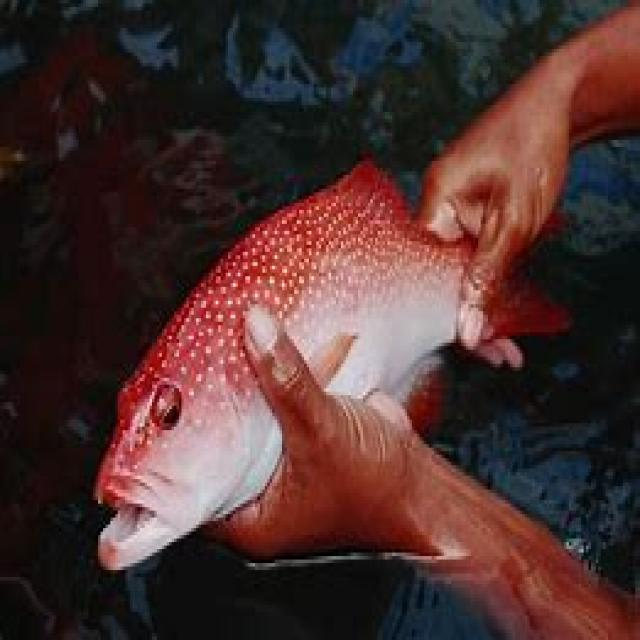Plectropomus-leopardus: (89, 142, 569, 584)
